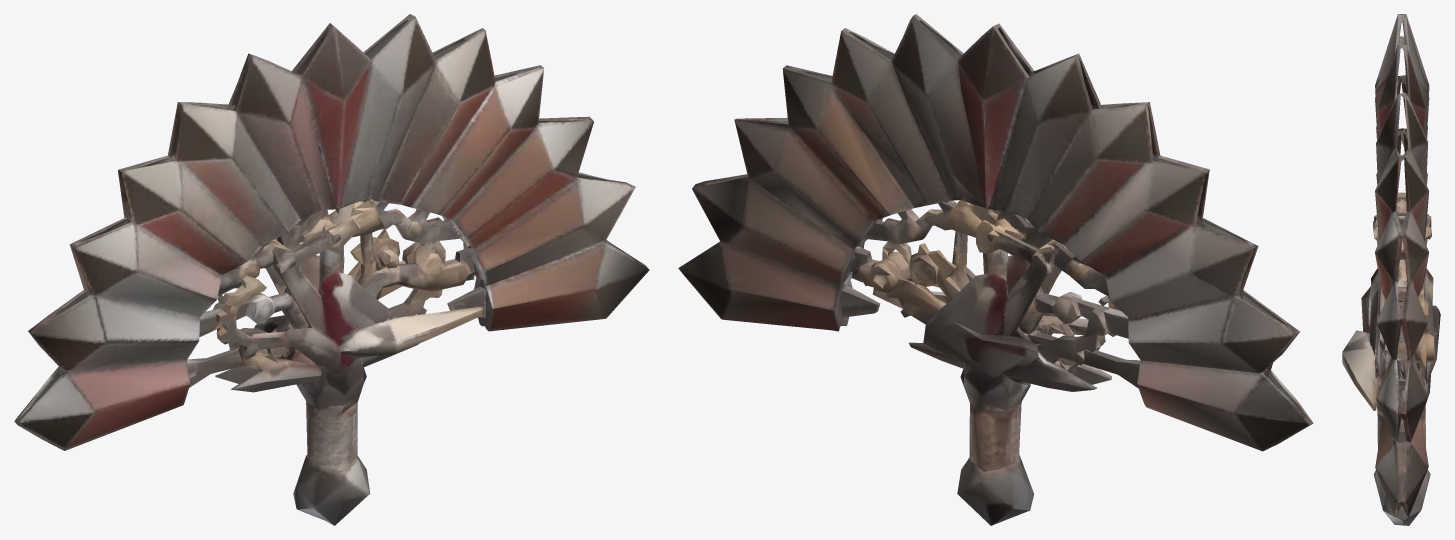
The picture shows the model from 3 angles, left to right: view 1: azimuth 30°, elevation 25°; view 2: azimuth 150°, elevation 25°; view 3: azimuth 270°, elevation 25°; orthographic projection. The views are drawn at different scales.
Parts seen in each view (by area): view 1: geometry_0; view 2: geometry_0; view 3: geometry_0.
Part boxes in pixels (x1,y1,x2,y2): geometry_0: (14,14,649,525); geometry_0: (678,14,1313,525); geometry_0: (1342,14,1440,525).
Bounding box in the file's own units: 1 × 0.7551 × 0.1403.
1 material, 1 textured.
